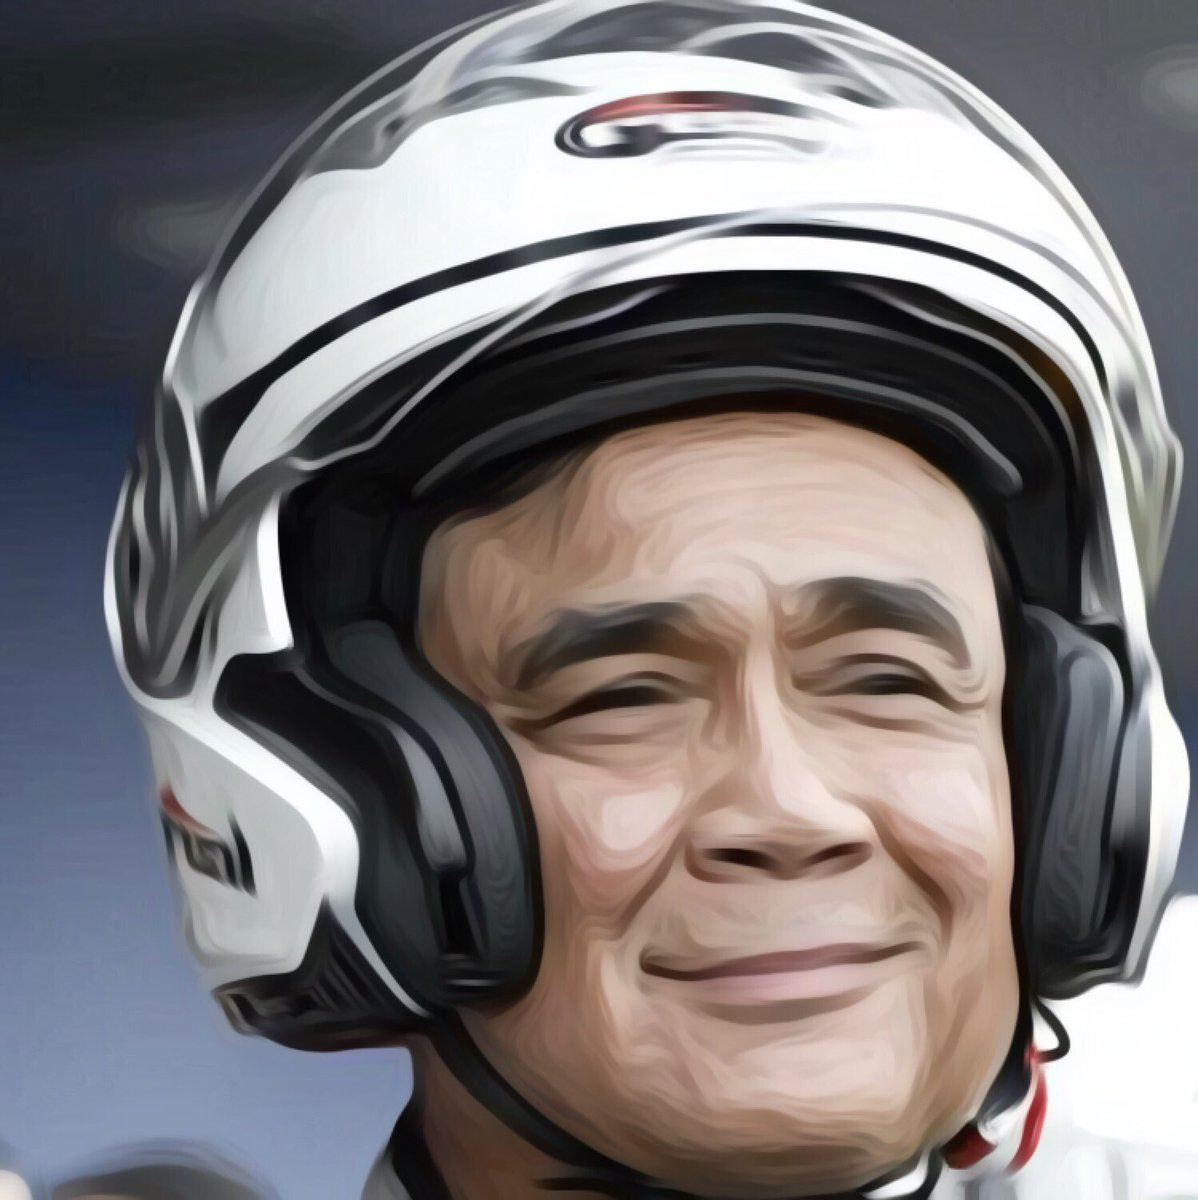helmet: (74, 1, 1195, 1074)
